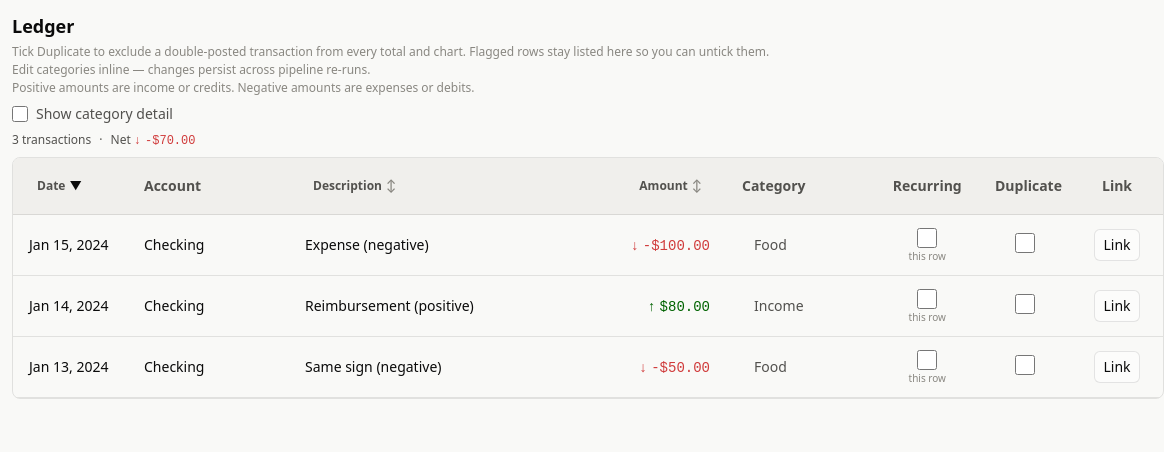
it: TransactionsTab › Transaction linking › opens picker with candidate transactions filtered to opposite-sign amounts when Link is clicked
Note: Click Link button on the expense row
Click the button "Link" in the row of "Jan 15, 2024". click: (1117, 245)
box: [1094, 229, 1140, 261]
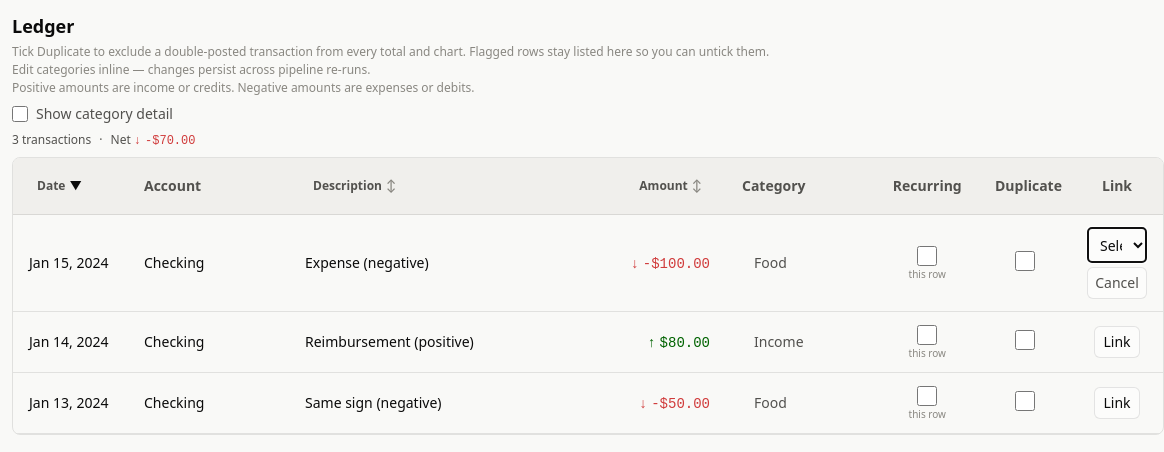
Now the dropdown is shown, box [1087, 227, 1147, 263]
